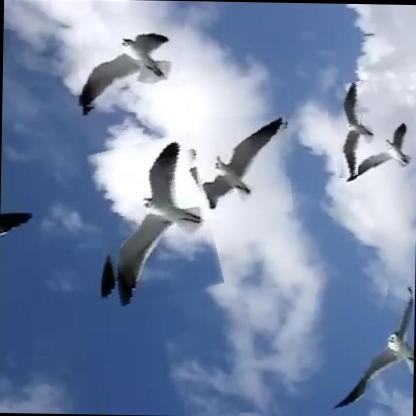bird: (92, 134, 219, 301), (78, 13, 184, 114), (193, 111, 293, 217), (326, 78, 386, 175), (369, 275, 412, 403), (356, 106, 416, 188)
